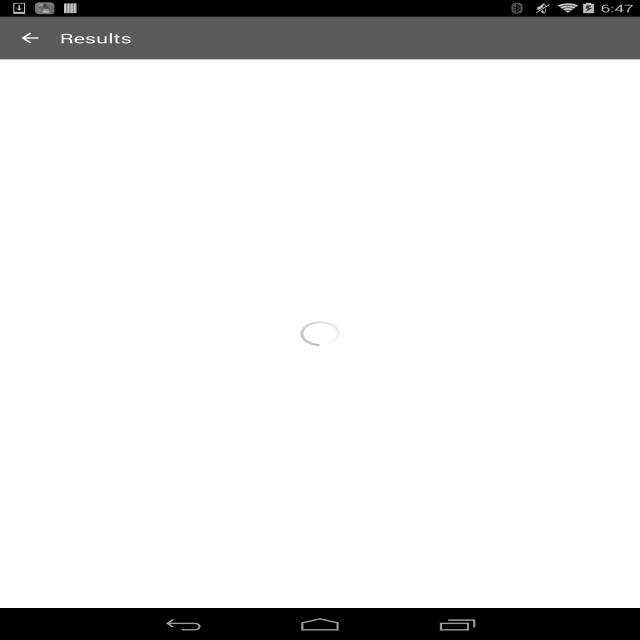ImageButton: (0, 30, 60, 46)
ImageView: (9, 65, 630, 218), (9, 282, 630, 435), (9, 476, 630, 629), (562, 282, 631, 324), (562, 476, 631, 518), (562, 65, 631, 106)
TextView: (10, 218, 216, 252), (10, 436, 216, 470), (10, 182, 212, 208), (10, 400, 212, 424), (10, 594, 212, 618), (27, 252, 286, 265), (487, 22, 538, 54), (589, 22, 640, 54), (538, 22, 588, 54), (60, 29, 132, 47)
